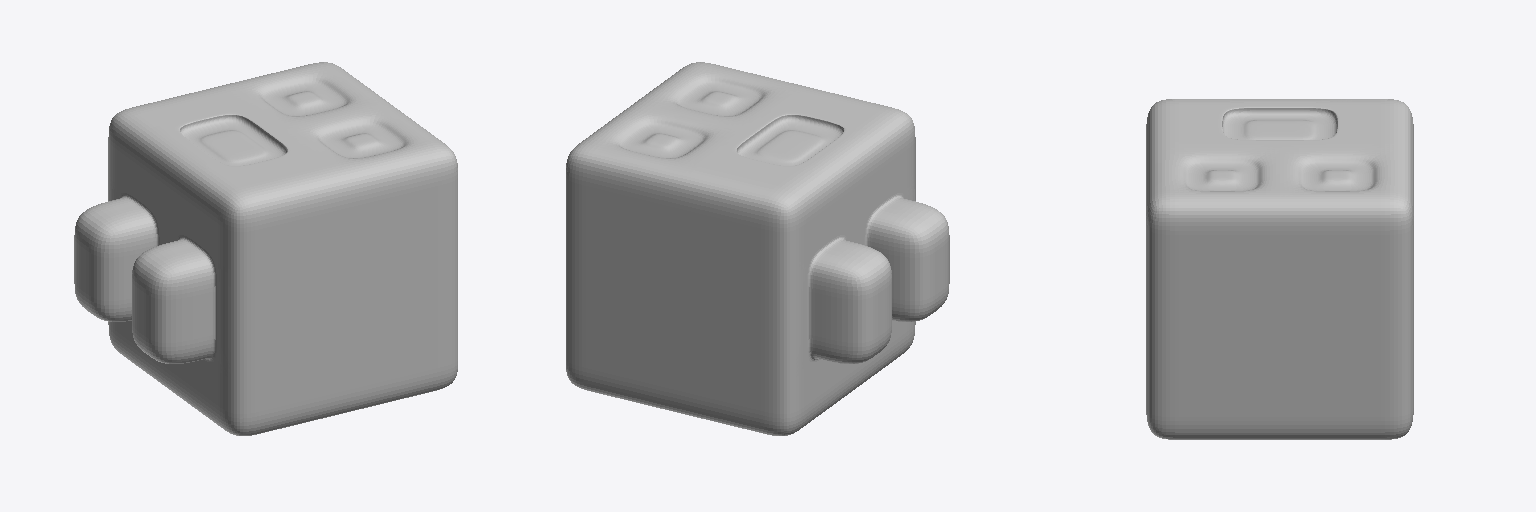
File: char.obj
3 renders of one model, left to right at view 1: azimuth 30°, elevation 25°; view 2: azimuth 150°, elevation 25°; view 3: azimuth 270°, elevation 25°, orthographic.
Visible parts, largest first — view 1: fuck.001_Cube_Cube.001; view 2: fuck.001_Cube_Cube.001; view 3: fuck.001_Cube_Cube.001.
Boxes of the visible parts, x1,y1,x2,y2 form: fuck.001_Cube_Cube.001: [74, 62, 457, 435]; fuck.001_Cube_Cube.001: [566, 62, 949, 435]; fuck.001_Cube_Cube.001: [1146, 99, 1413, 439].
Bounding box in the file's own units: 2.47 × 2 × 2.